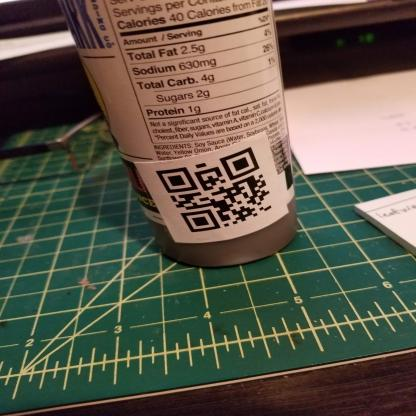qr: (151, 142, 279, 235)
